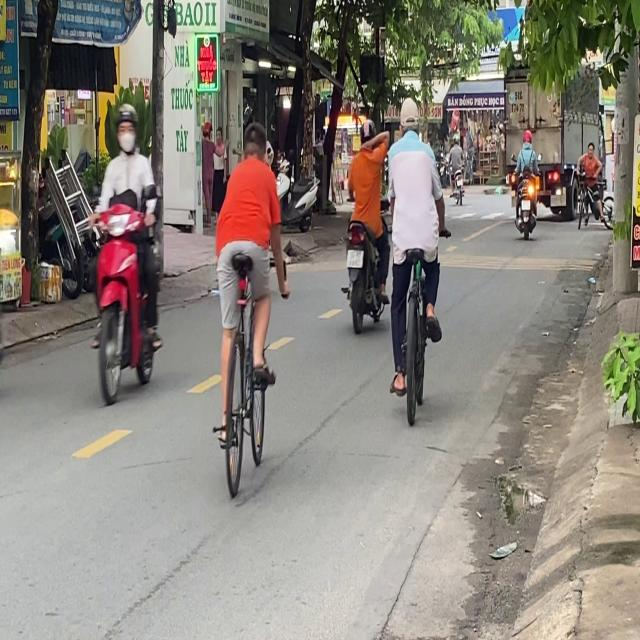helmet: (115, 104, 138, 154), (359, 117, 375, 145)
licenseplate: (84, 102, 166, 402), (341, 114, 390, 331)
nohelmet: (346, 248, 363, 267)
